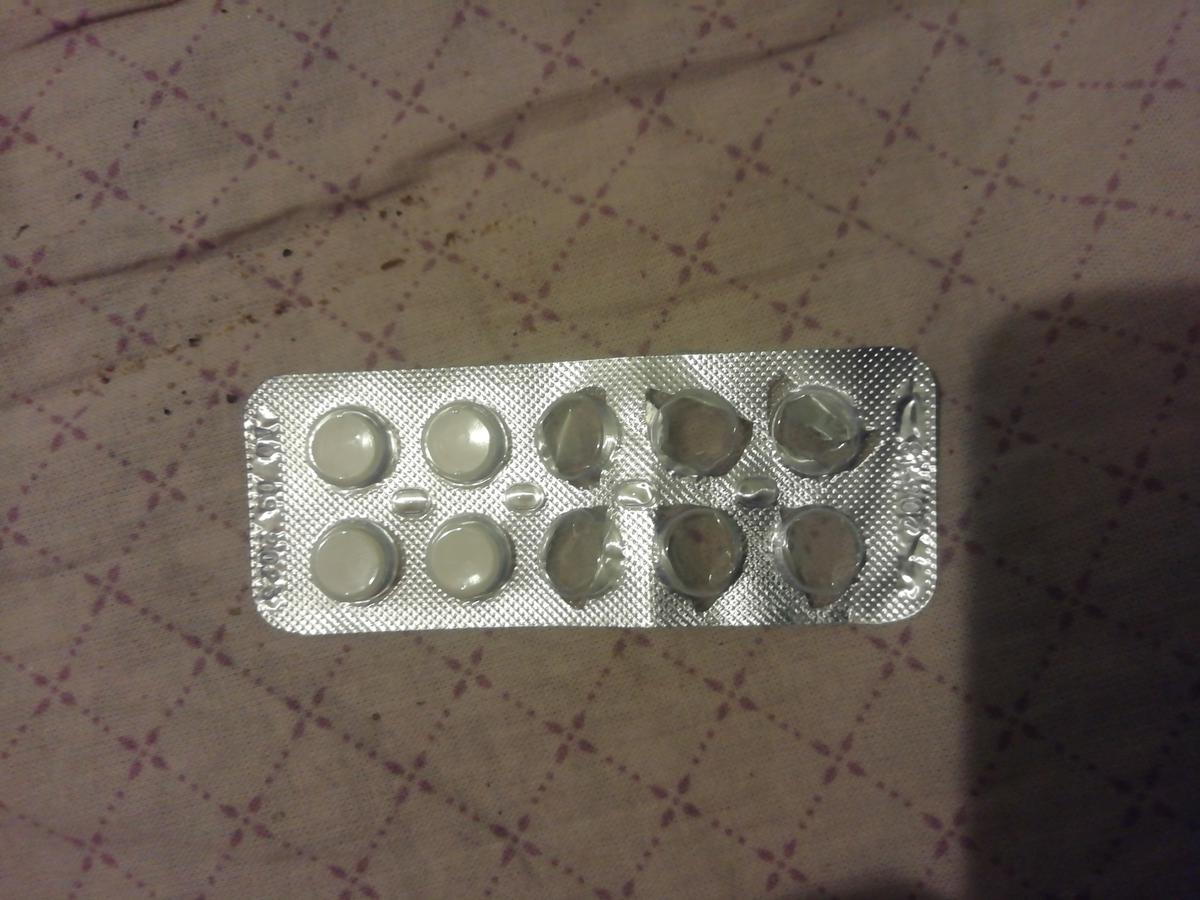tablet: (295, 405, 411, 496), (412, 402, 528, 493), (292, 516, 408, 607), (420, 514, 536, 605), (418, 512, 534, 603)
